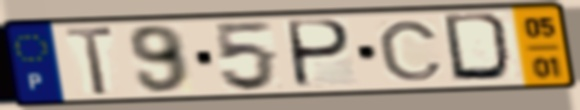5: (208, 19, 282, 93)
9: (125, 22, 196, 96)
C: (375, 18, 447, 83)
D: (440, 11, 520, 85)
P: (287, 18, 355, 91)
T: (63, 24, 118, 98)
